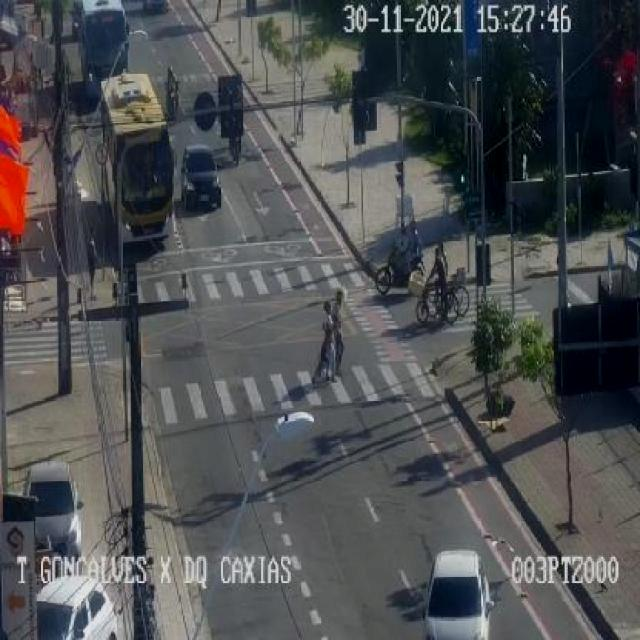Car: (98, 71, 174, 248), (420, 549, 494, 640), (21, 460, 84, 560), (75, 0, 131, 99), (34, 576, 118, 640), (180, 144, 225, 212), (141, 0, 171, 15)
Cycle: (413, 277, 459, 327), (373, 252, 425, 295), (422, 279, 471, 318)
